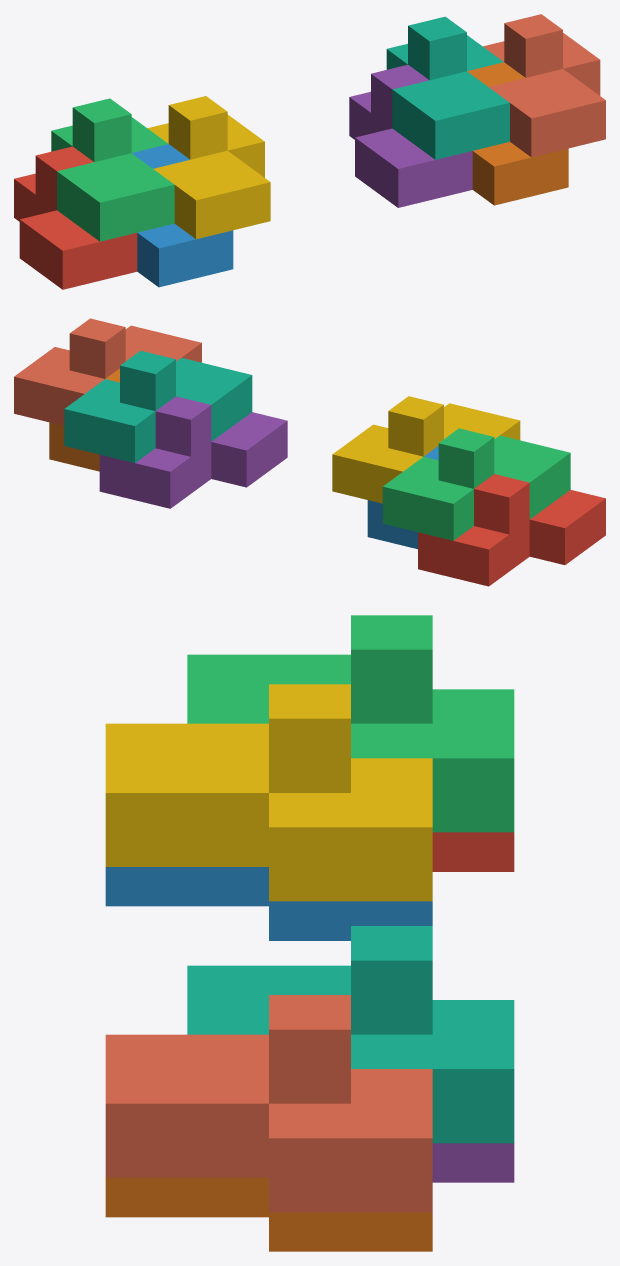
Rendered from tiling.obj.
The picture shows the model from 3 angles, top to bottom: view 1: azimuth 30°, elevation 25°; view 2: azimuth 150°, elevation 25°; view 3: azimuth 270°, elevation 25°; orthographic projection. The views are drawn at different scales.
Parts seen in each view (by area): view 1: copy_1_domain_3, copy_1_domain_7, copy_1_domain_4, copy_1_domain_8, copy_1_domain_1, copy_1_domain_5, copy_1_domain_6, copy_1_domain_2; view 2: copy_1_domain_5, copy_1_domain_3, copy_1_domain_7, copy_1_domain_1, copy_1_domain_4, copy_1_domain_8, copy_1_domain_2, copy_1_domain_6; view 3: copy_1_domain_4, copy_1_domain_8, copy_1_domain_3, copy_1_domain_7, copy_1_domain_6, copy_1_domain_2, copy_1_domain_1, copy_1_domain_5.
Boxes of the visible parts, bbox=[...] form: copy_1_domain_3: bbox=[51, 98, 174, 241]; copy_1_domain_7: bbox=[386, 16, 509, 159]; copy_1_domain_4: bbox=[147, 96, 270, 239]; copy_1_domain_8: bbox=[483, 14, 605, 157]; copy_1_domain_1: bbox=[14, 146, 137, 289]; copy_1_domain_5: bbox=[349, 64, 472, 207]; copy_1_domain_6: bbox=[467, 62, 568, 205]; copy_1_domain_2: bbox=[132, 144, 233, 287]; copy_1_domain_5: bbox=[99, 396, 287, 508]; copy_1_domain_3: bbox=[382, 428, 570, 540]; copy_1_domain_7: bbox=[64, 350, 252, 462]; copy_1_domain_1: bbox=[418, 474, 605, 586]; copy_1_domain_4: bbox=[332, 396, 520, 503]; copy_1_domain_8: bbox=[14, 318, 201, 425]; copy_1_domain_2: bbox=[367, 446, 438, 549]; copy_1_domain_6: bbox=[49, 368, 119, 471]; copy_1_domain_4: bbox=[105, 684, 432, 901]; copy_1_domain_8: bbox=[105, 995, 432, 1212]; copy_1_domain_3: bbox=[187, 615, 514, 832]; copy_1_domain_7: bbox=[187, 926, 514, 1143]; copy_1_domain_6: bbox=[105, 1177, 432, 1251]; copy_1_domain_2: bbox=[105, 867, 432, 940]; copy_1_domain_1: bbox=[432, 832, 514, 871]; copy_1_domain_5: bbox=[432, 1143, 514, 1182].
Size of the model in its own units: 15 by 3 by 5.
